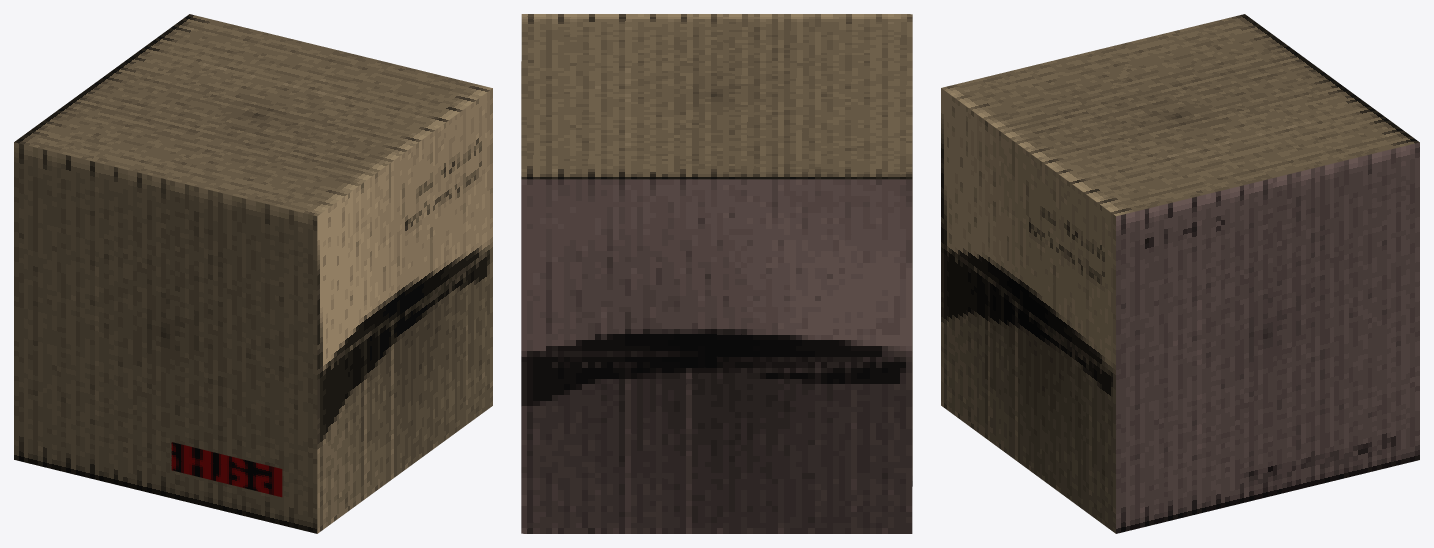
File: primary_076.glb
The picture shows the model from 3 angles, left to right: view 1: azimuth 30°, elevation 25°; view 2: azimuth 150°, elevation 25°; view 3: azimuth 270°, elevation 25°; orthographic projection. The views are drawn at different scales.
Visible parts, largest first — view 1: Object; view 2: Object; view 3: Object.
Boxes of the visible parts, x1,y1,x2,y2 form: Object: (14, 14, 492, 533); Object: (521, 14, 912, 533); Object: (941, 14, 1419, 533).
Bounding box in the file's own units: 1.3 × 0.9501 × 1.3.
6 materials, 6 textured.
